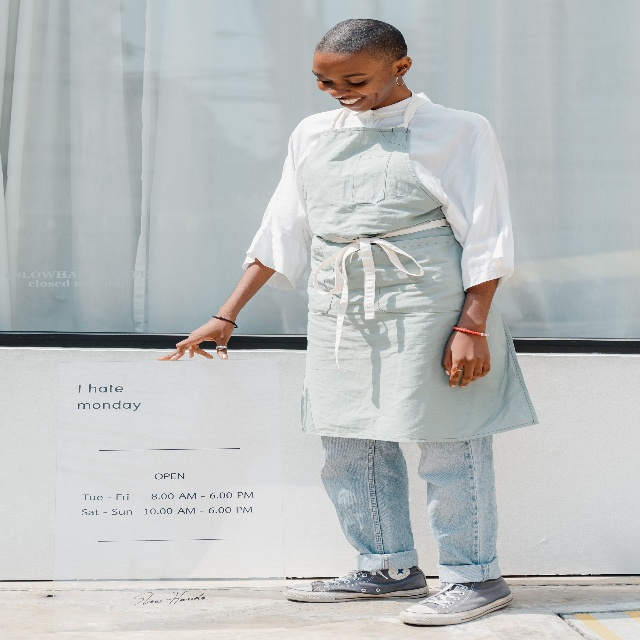Sin_guantes: (158, 311, 235, 368), (441, 325, 492, 385)
